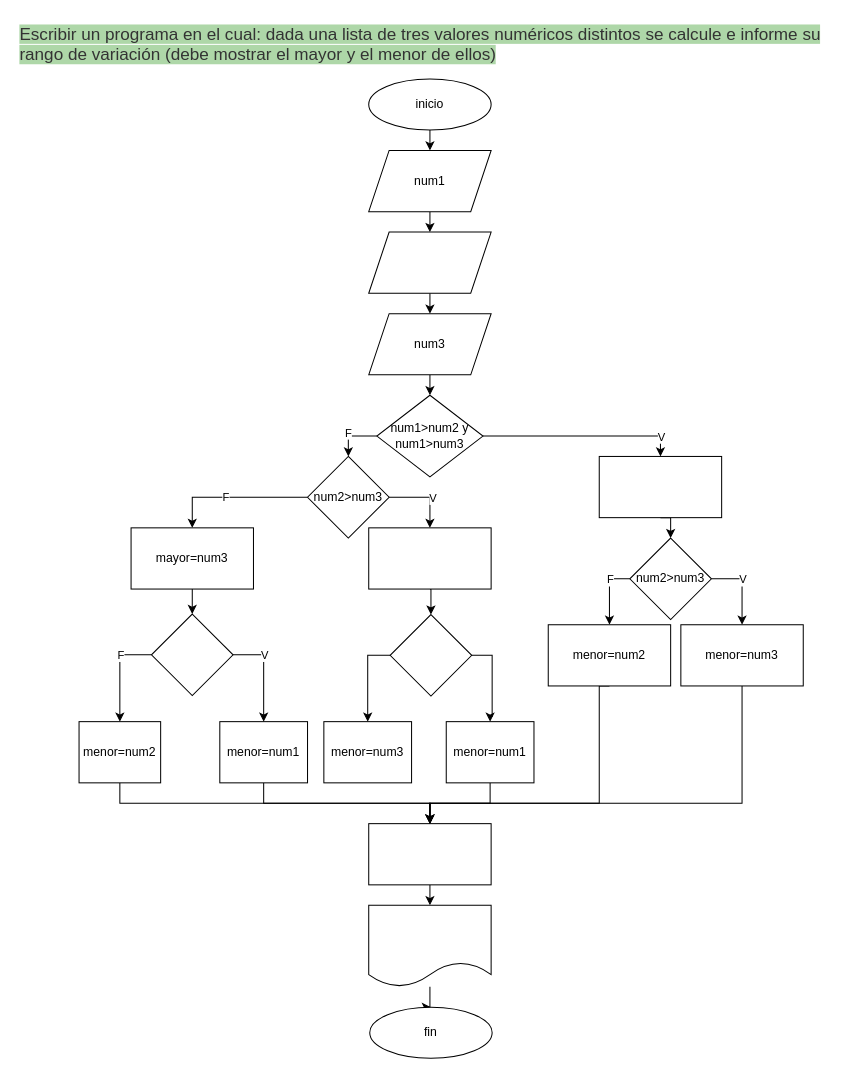
Some shapes in this 861 by 1076 pixel diagram are drawn without their labels. The centre of each missing label's shape, as x and y in pixels:
"diferencia" belongs at [429,945].
"diferencia=mayor-menor" belongs at [429,854].
"mayor=num1" belongs at [660,486].
"mayor=num2" belongs at [429,558].
"num2" belongs at [429,262].
"num2>num1" belongs at [191,654].
"num3>num1" belongs at [430,655].
